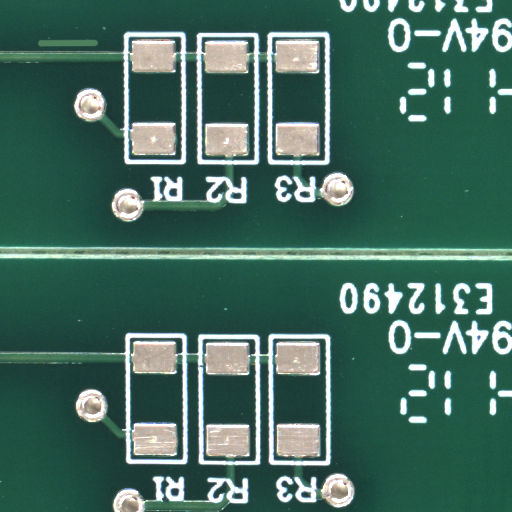Spurious_copper: (68, 42, 129, 53)
